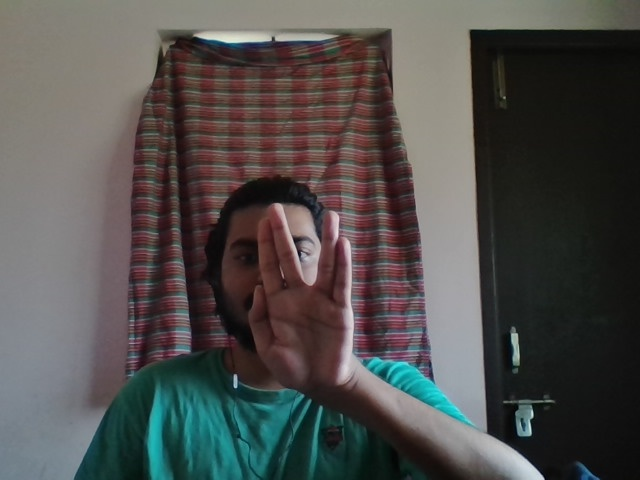LiveLong: (248, 203, 354, 399)
